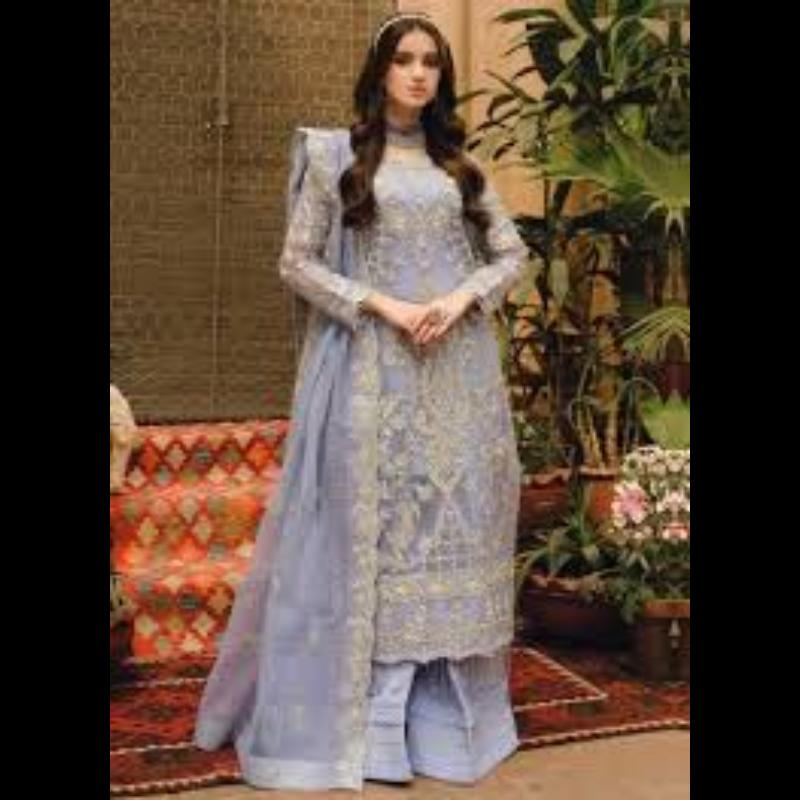Churidaar: (189, 104, 667, 799)
